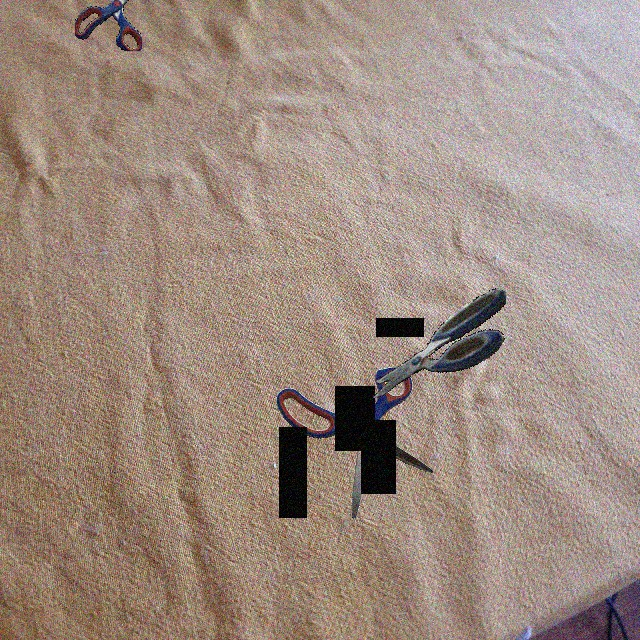scissors: (276, 367, 433, 518), (371, 288, 506, 398), (75, 0, 142, 51)
